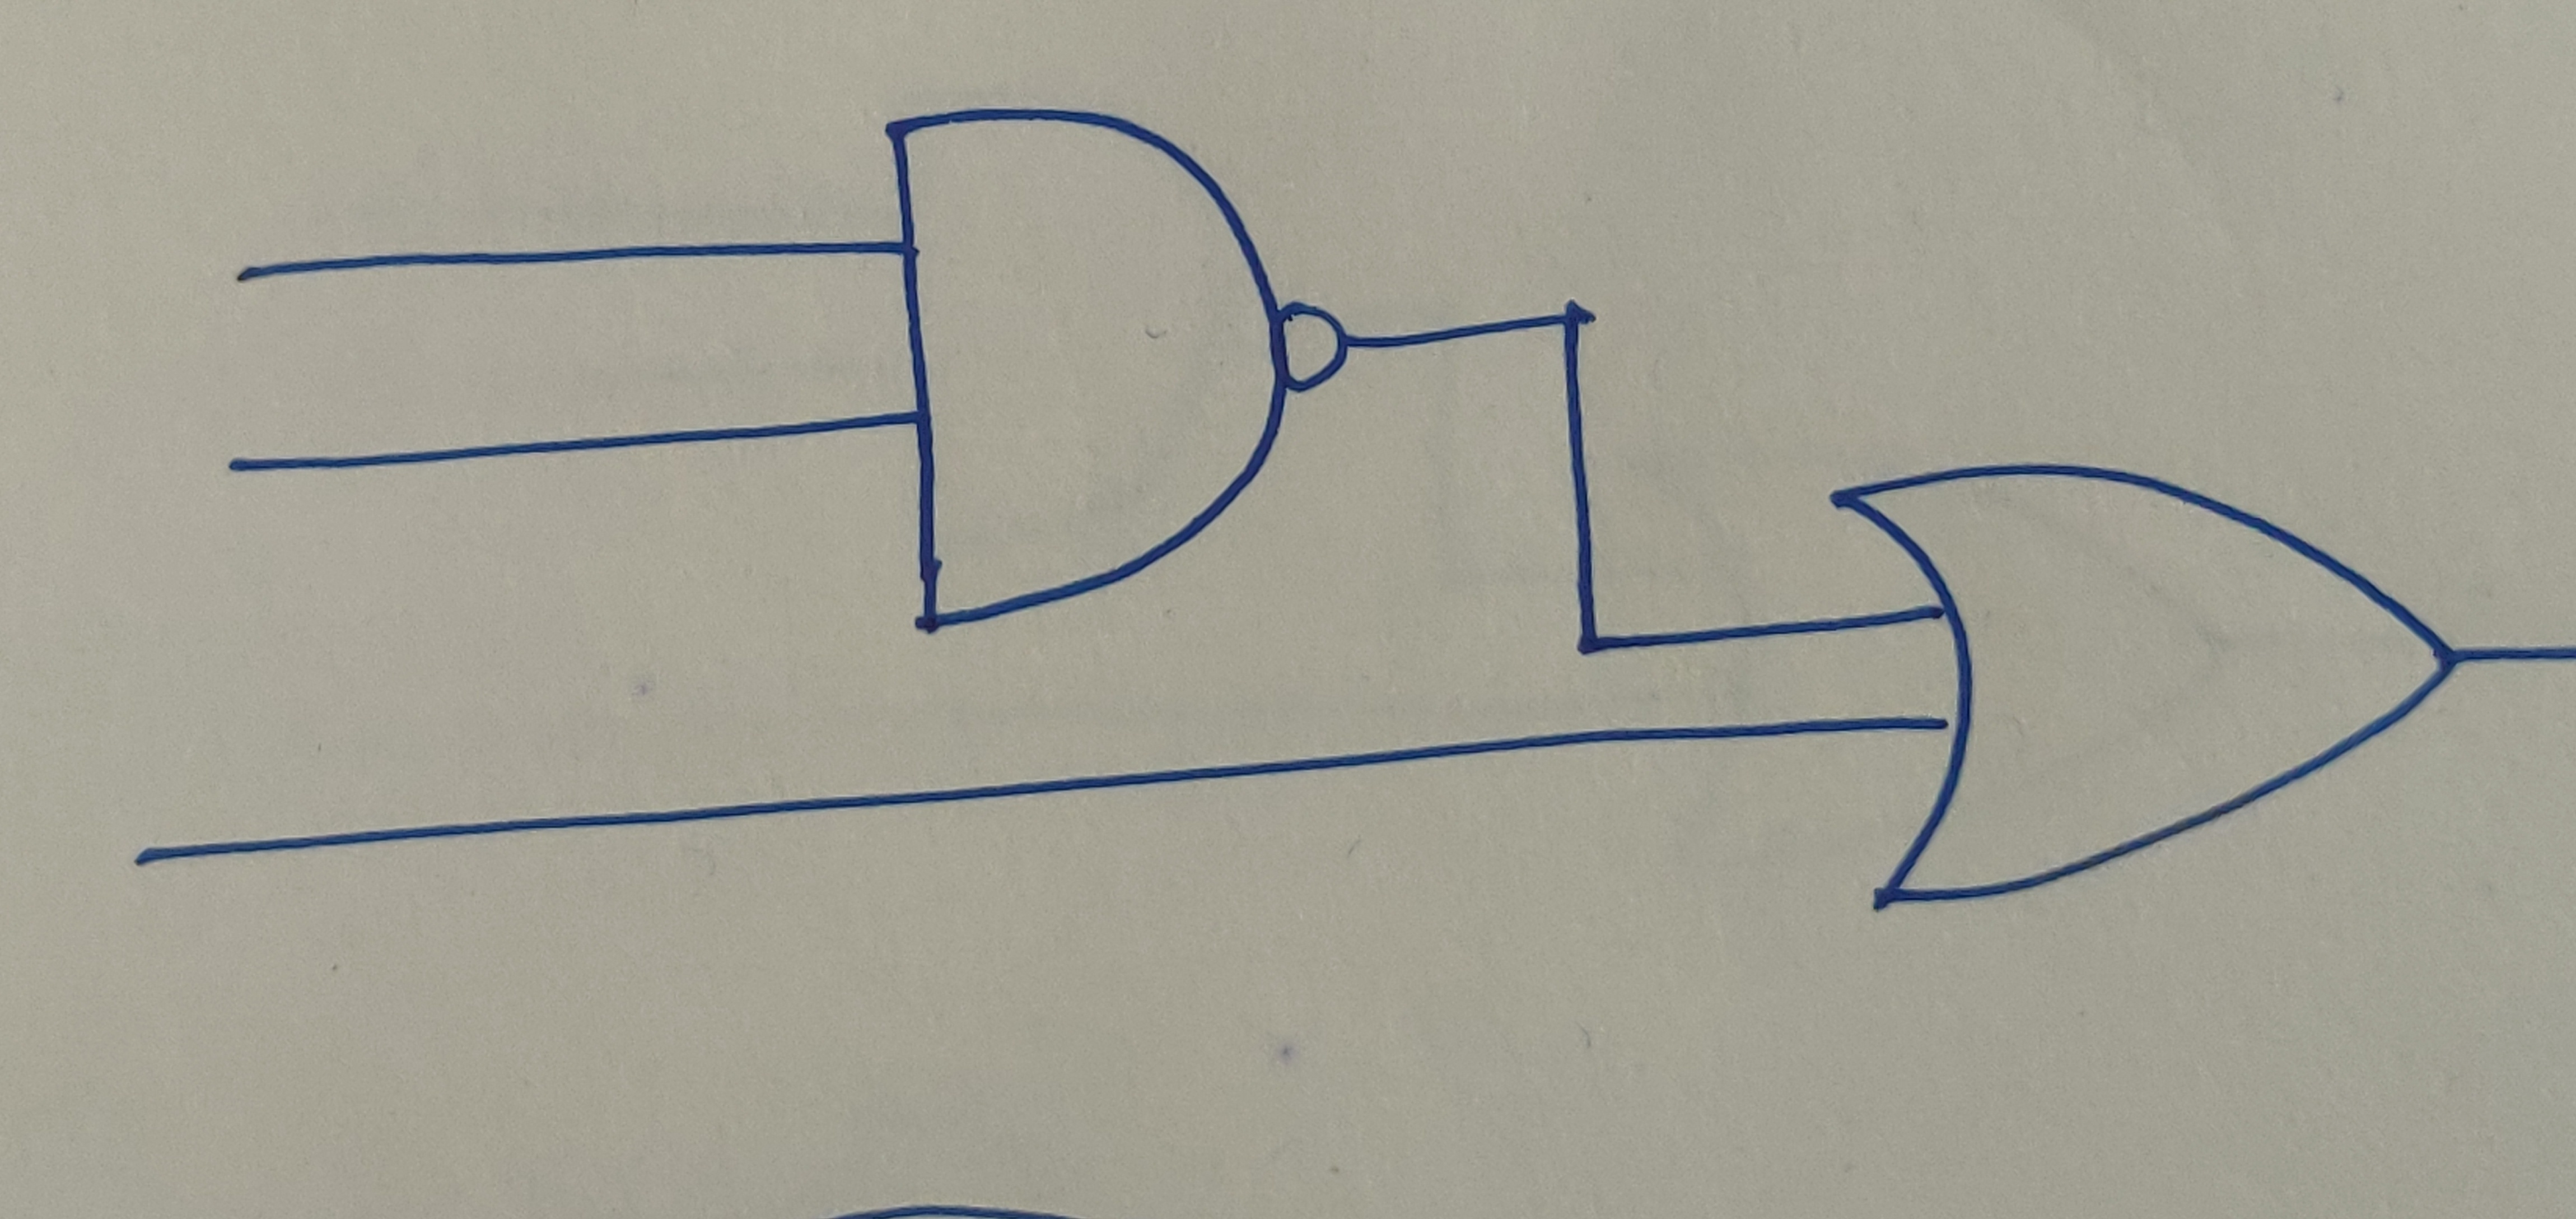and: (879, 99, 1288, 636)
not: (1275, 296, 1354, 401)
or: (1825, 458, 2461, 917)
